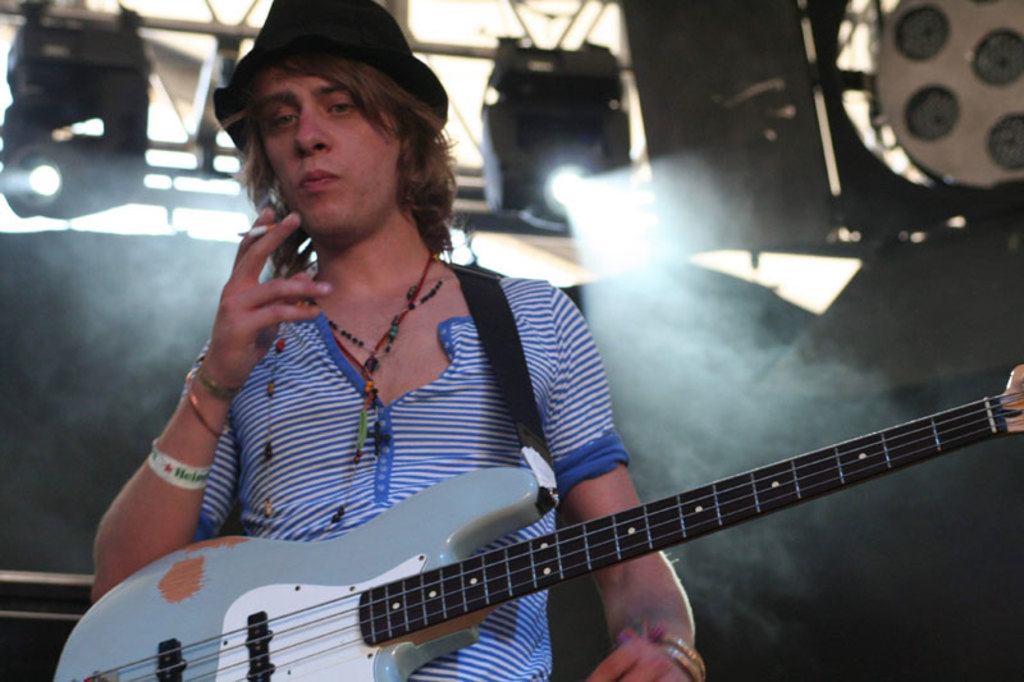Human_hand: (193, 220, 314, 415), (588, 637, 694, 681)
